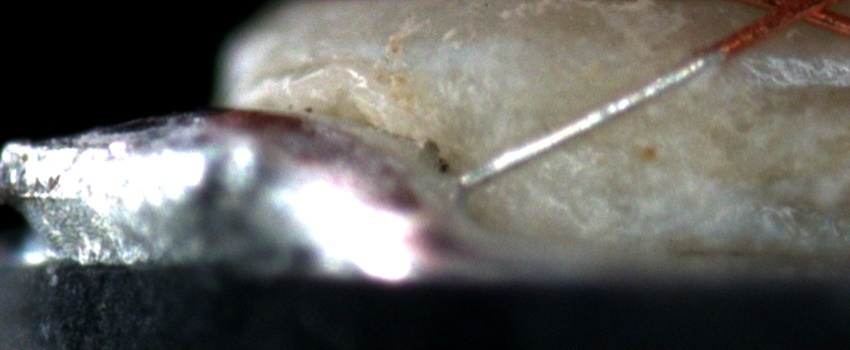CL: (751, 2, 832, 32)
DL: (544, 33, 850, 85)
TS: (458, 52, 719, 188)
